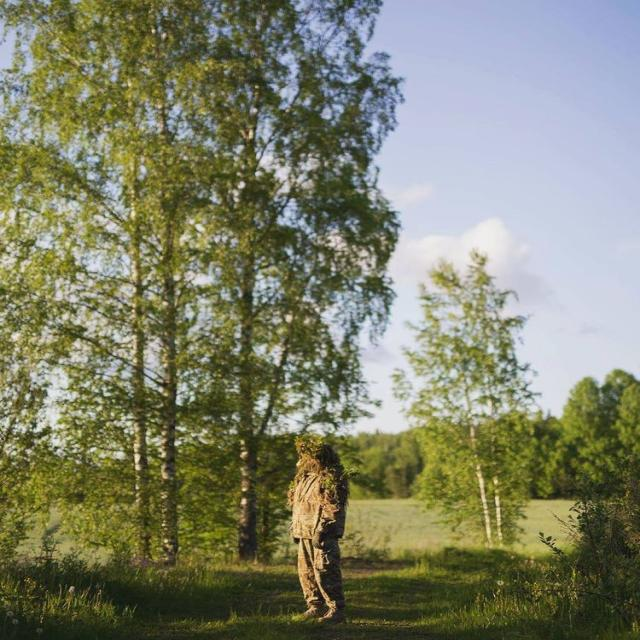Human: (288, 426, 350, 631)
